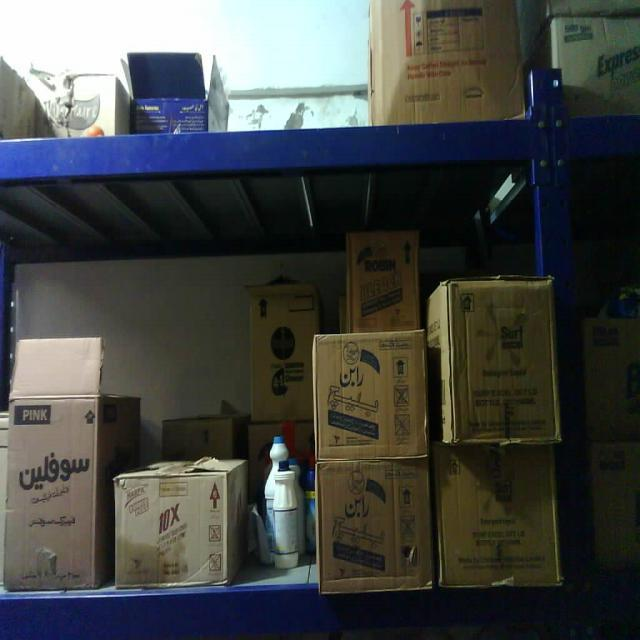cardboxes: (444, 276, 562, 444), (368, 2, 529, 124), (434, 440, 564, 590), (4, 392, 99, 594), (317, 458, 437, 594), (312, 331, 431, 460), (113, 471, 230, 590), (248, 290, 317, 420), (346, 230, 423, 334)
